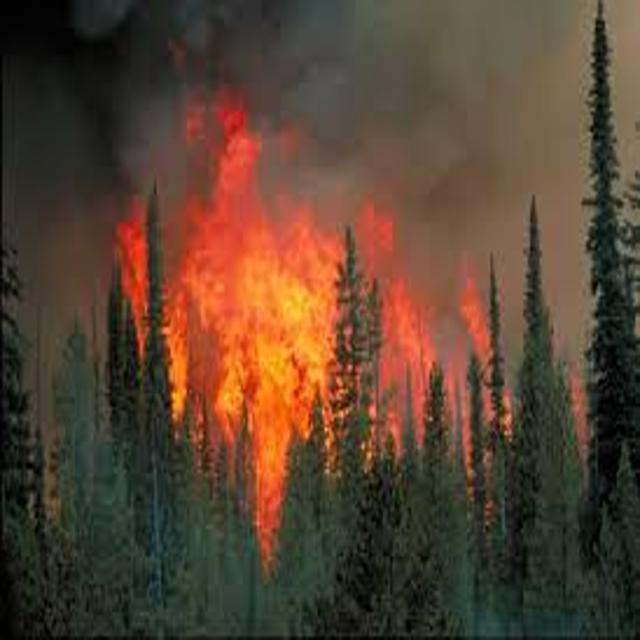Fire: (188, 70, 324, 582), (325, 168, 441, 508), (98, 196, 190, 440), (447, 248, 515, 516)
Smoke: (326, 6, 640, 166), (2, 68, 188, 194), (0, 0, 327, 68)
